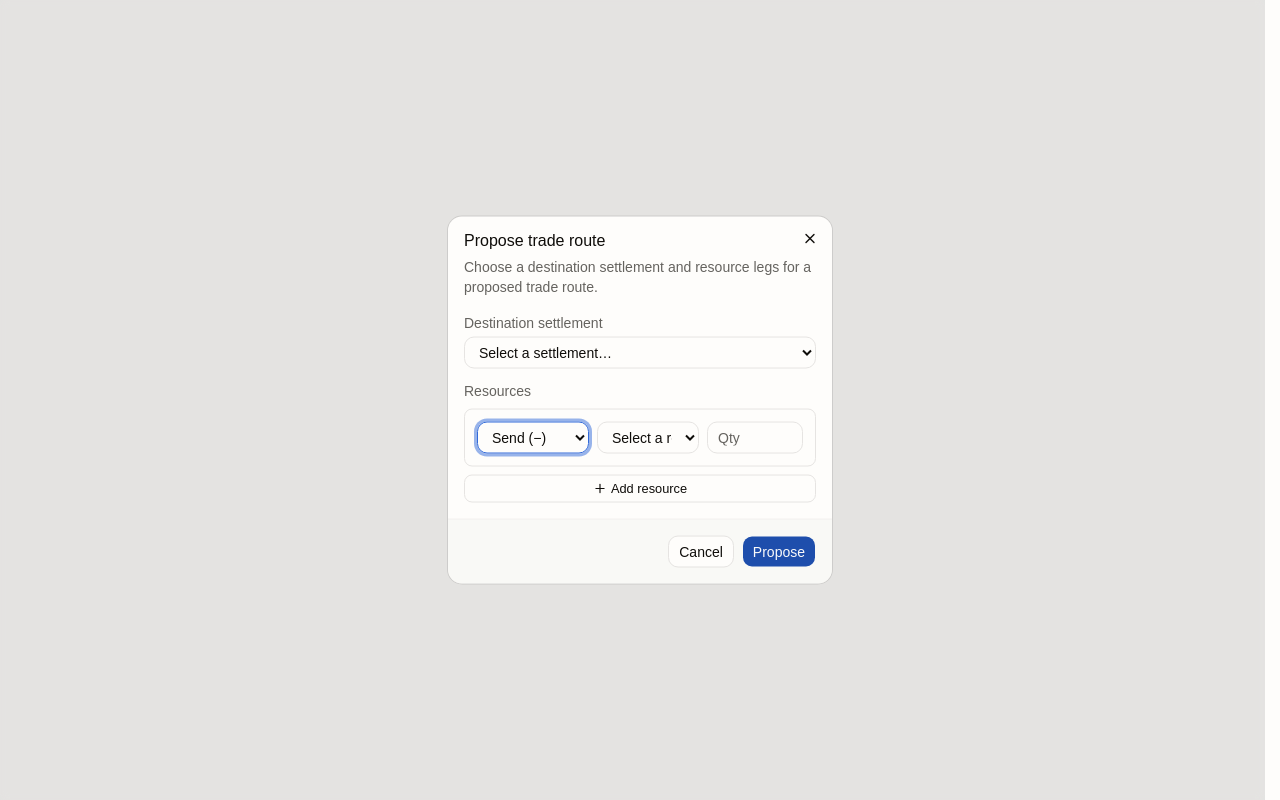
Test: ProposeTradeRouteDialog › trade policy (#1087) — blocks a settlement manager from an external route when the home nation is state-controlled
Select "Far Settlement (Far Nation)" in the dropdown labelled "Destination settlement" at (640, 352), box top-left (464, 336), bottom-right (816, 368)
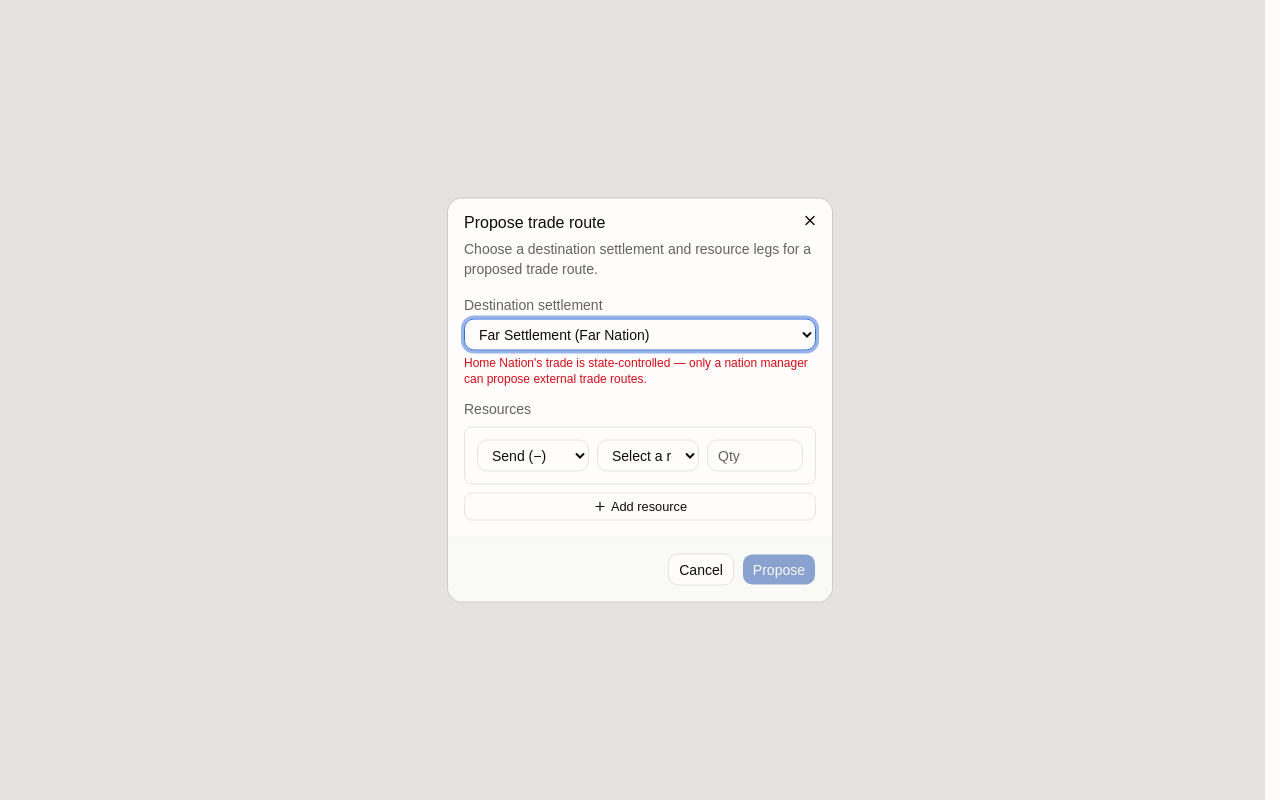
Check: the text "Home Nation's trade is state-controlled — only a nation manager can propose external trade routes." is shown, box top-left (464, 356), bottom-right (808, 386)
Check: the button "Propose" is disabled, box top-left (742, 554), bottom-right (816, 586)
